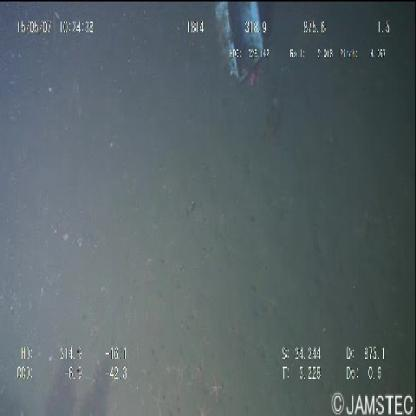Rác: (215, 0, 269, 85)
